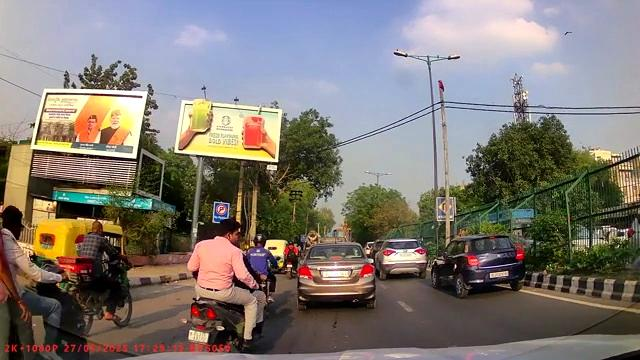motorcycle_without_helmet: (0, 205, 89, 360)
passenger_without_helmet: (185, 217, 274, 351)
